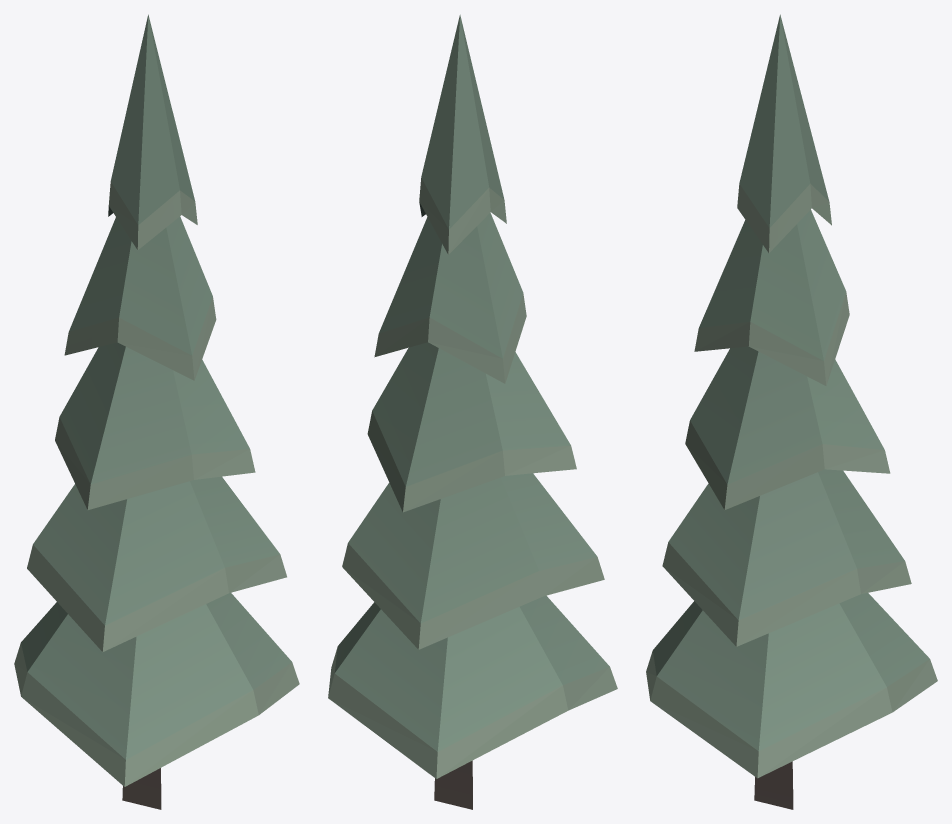
File: pine.lod2.glb
3 renders of one model, left to right at view 1: azimuth 30°, elevation 25°; view 2: azimuth 150°, elevation 25°; view 3: azimuth 270°, elevation 25°, orthographic.
Bounding box in the file's own units: 3.1 × 9.05 × 3.04.
